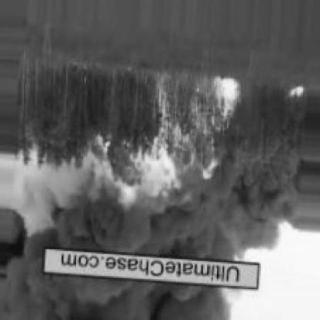Fire: (85, 74, 241, 206), (278, 79, 306, 102)
Smoke: (27, 212, 259, 316)
